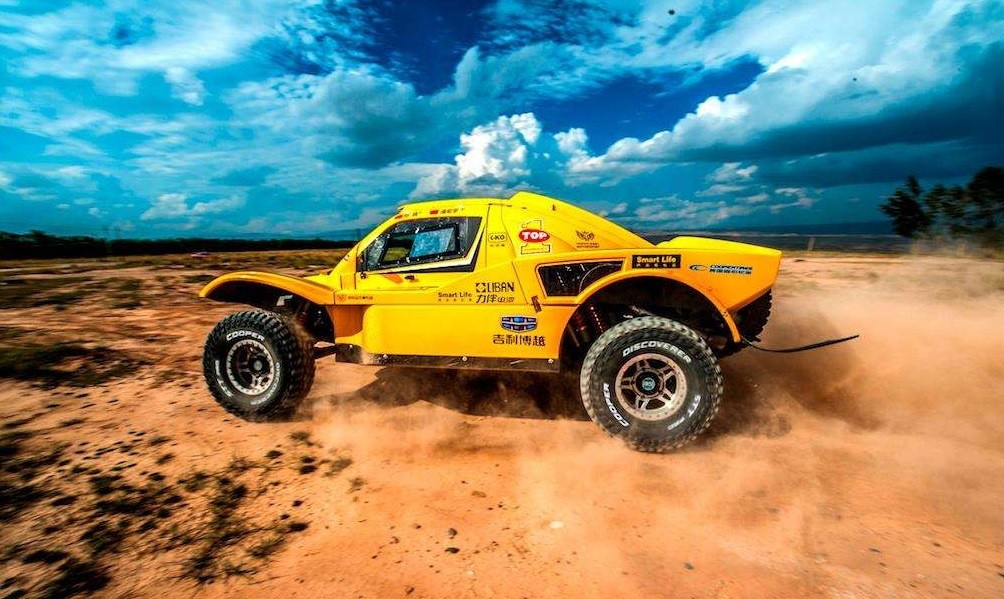racing car: (204, 173, 789, 456)
